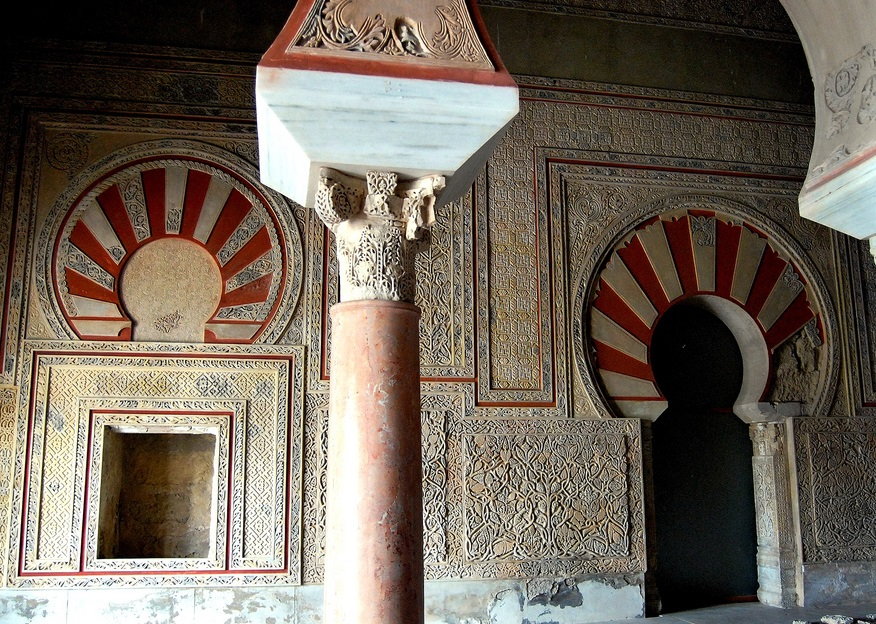arco-herradura: (624, 273, 795, 436), (102, 222, 232, 342)
